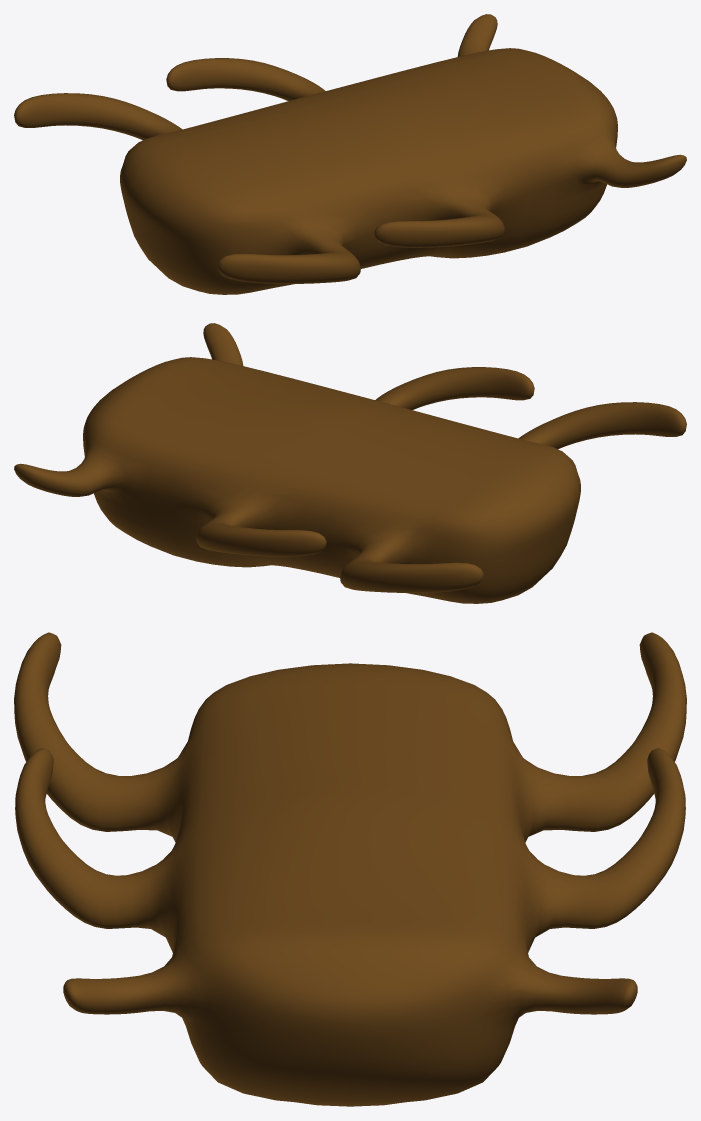
Rendered from toastyroach.fbx.
The picture shows the model from 3 angles, top to bottom: view 1: azimuth 30°, elevation 25°; view 2: azimuth 150°, elevation 25°; view 3: azimuth 270°, elevation 25°; orthographic projection. The views are drawn at different scales.
Parts seen in each view (by area): view 1: pCube3; view 2: pCube3; view 3: pCube3.
Part boxes in pixels (bbox=[...]): pCube3: bbox=[14, 14, 686, 294]; pCube3: bbox=[14, 323, 686, 603]; pCube3: bbox=[14, 632, 686, 1106].
Size of the model in its own units: 2.35 by 0.7074 by 1.94.
